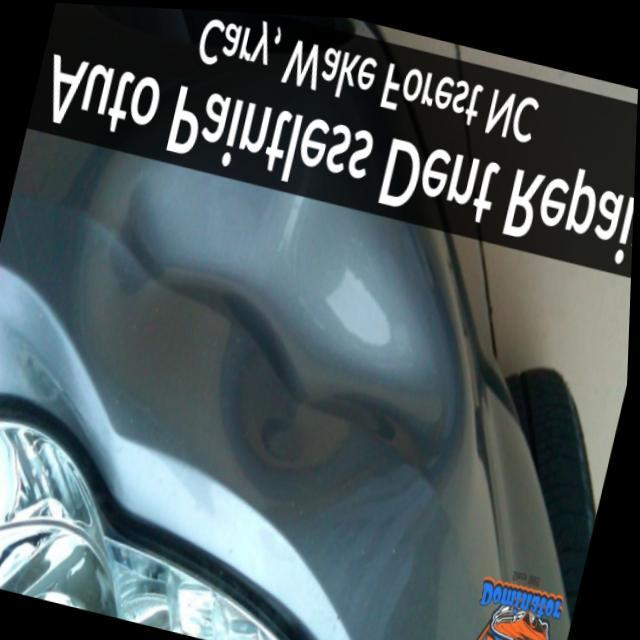Dent: (194, 240, 447, 483)
